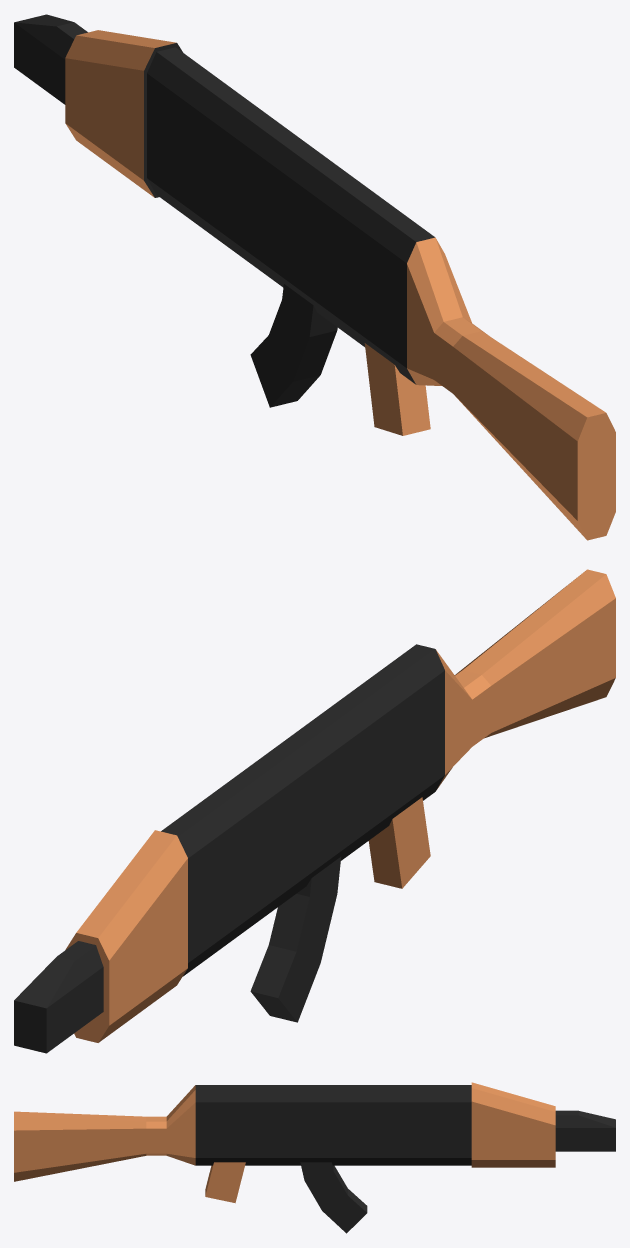
3 renders of one model, top to bottom at view 1: azimuth 30°, elevation 25°; view 2: azimuth 150°, elevation 25°; view 3: azimuth 270°, elevation 25°, orthographic. The views are drawn at different scales.
Parts seen in each view (by area): view 1: Cube, Cube.002, Cube.001; view 2: Cube, Cube.002, Cube.001; view 3: Cube, Cube.002, Cube.001.
Part boxes in pixels (left/top/right/bottom): Cube: left=14, top=14, right=615, bottom=540; Cube.002: left=250, top=284, right=337, bottom=407; Cube.001: left=364, top=343, right=430, bottom=435; Cube: left=14, top=569, right=615, bottom=1053; Cube.002: left=250, top=857, right=341, bottom=1022; Cube.001: left=368, top=797, right=430, bottom=888; Cube: left=14, top=1082, right=615, bottom=1181; Cube.002: left=300, top=1162, right=367, bottom=1233; Cube.001: left=205, top=1162, right=245, bottom=1203.
Bounding box in the file's own units: 32.2 × 191 × 719.
